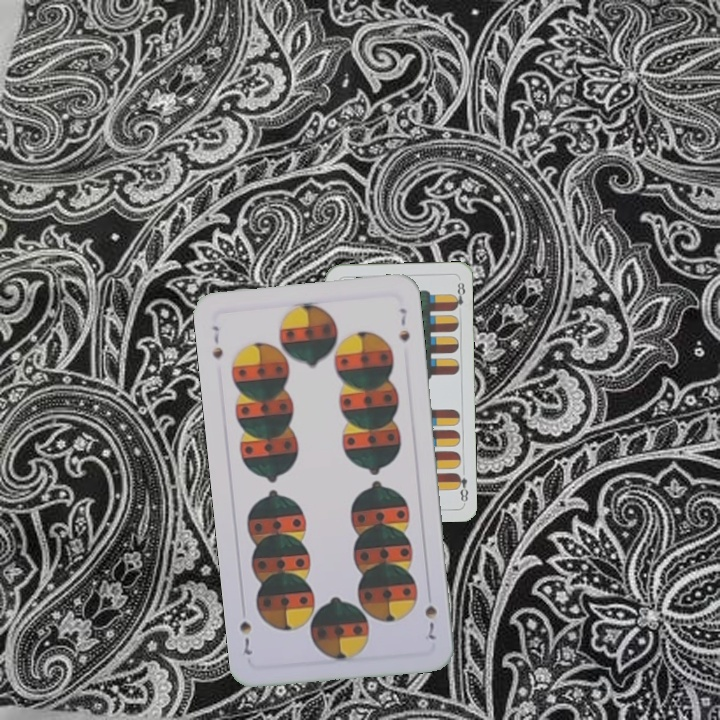E8: (452, 469, 471, 504)
S7: (420, 601, 440, 643), (207, 322, 226, 362)
